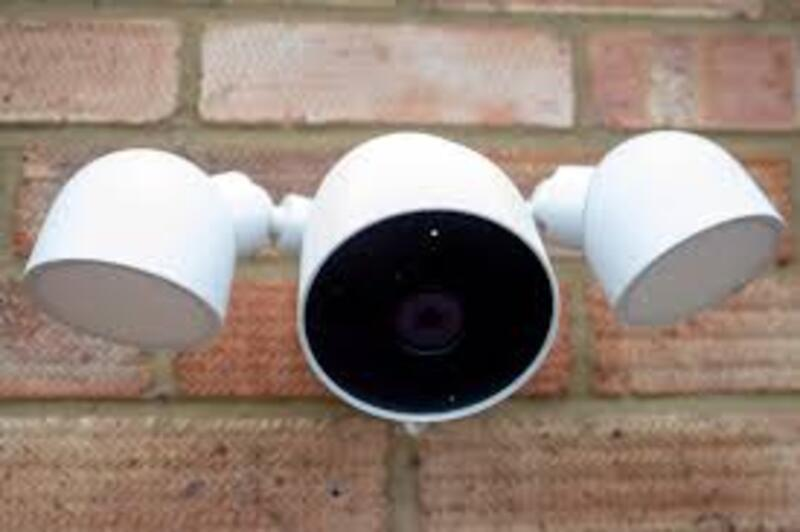nest: (286, 132, 571, 436)
